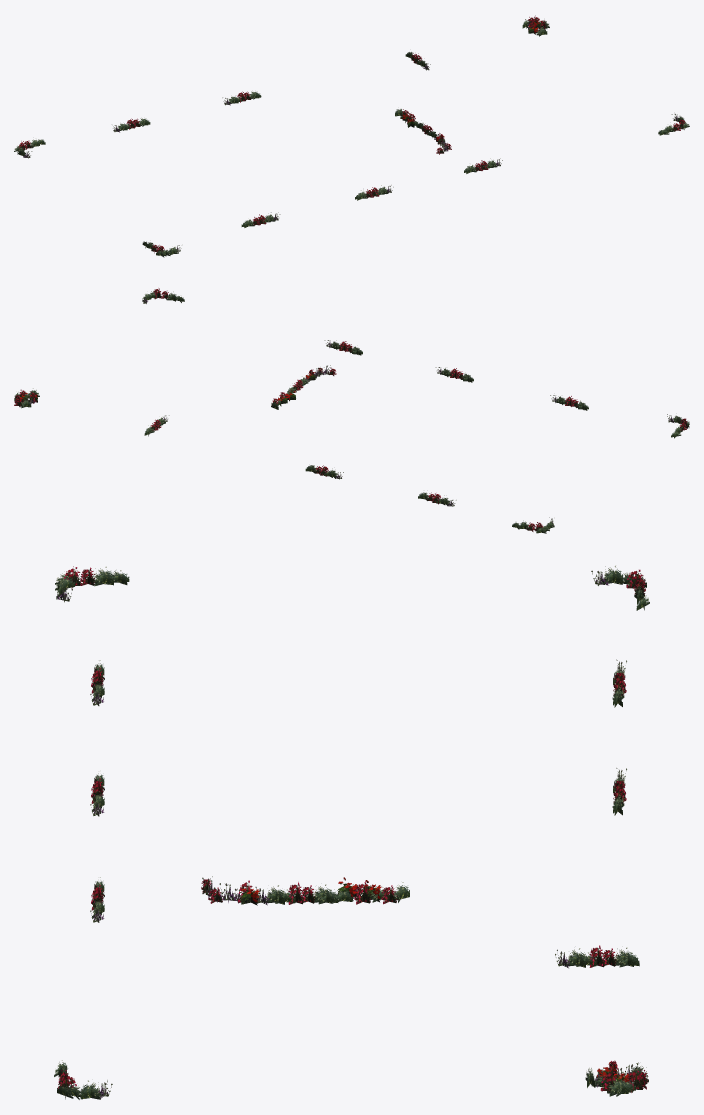
Rendered from bush05_lvs.obj.
The picture shows the model from 3 angles, top to bottom: view 1: azimuth 30°, elevation 25°; view 2: azimuth 150°, elevation 25°; view 3: azimuth 270°, elevation 25°; orthographic projection. The views are drawn at different scales.
Visible parts, largest first — view 1: bush05_lvs; view 2: bush05_lvs; view 3: bush05_lvs.
Part boxes in pixels (x1,y1,x2,y2): bush05_lvs: (14, 15, 689, 257); bush05_lvs: (14, 288, 689, 533); bush05_lvs: (54, 565, 649, 1099).
Size of the model in its own units: 78.78 by 1.54 by 38.09.
Materials: 4 (4 with a texture image).
